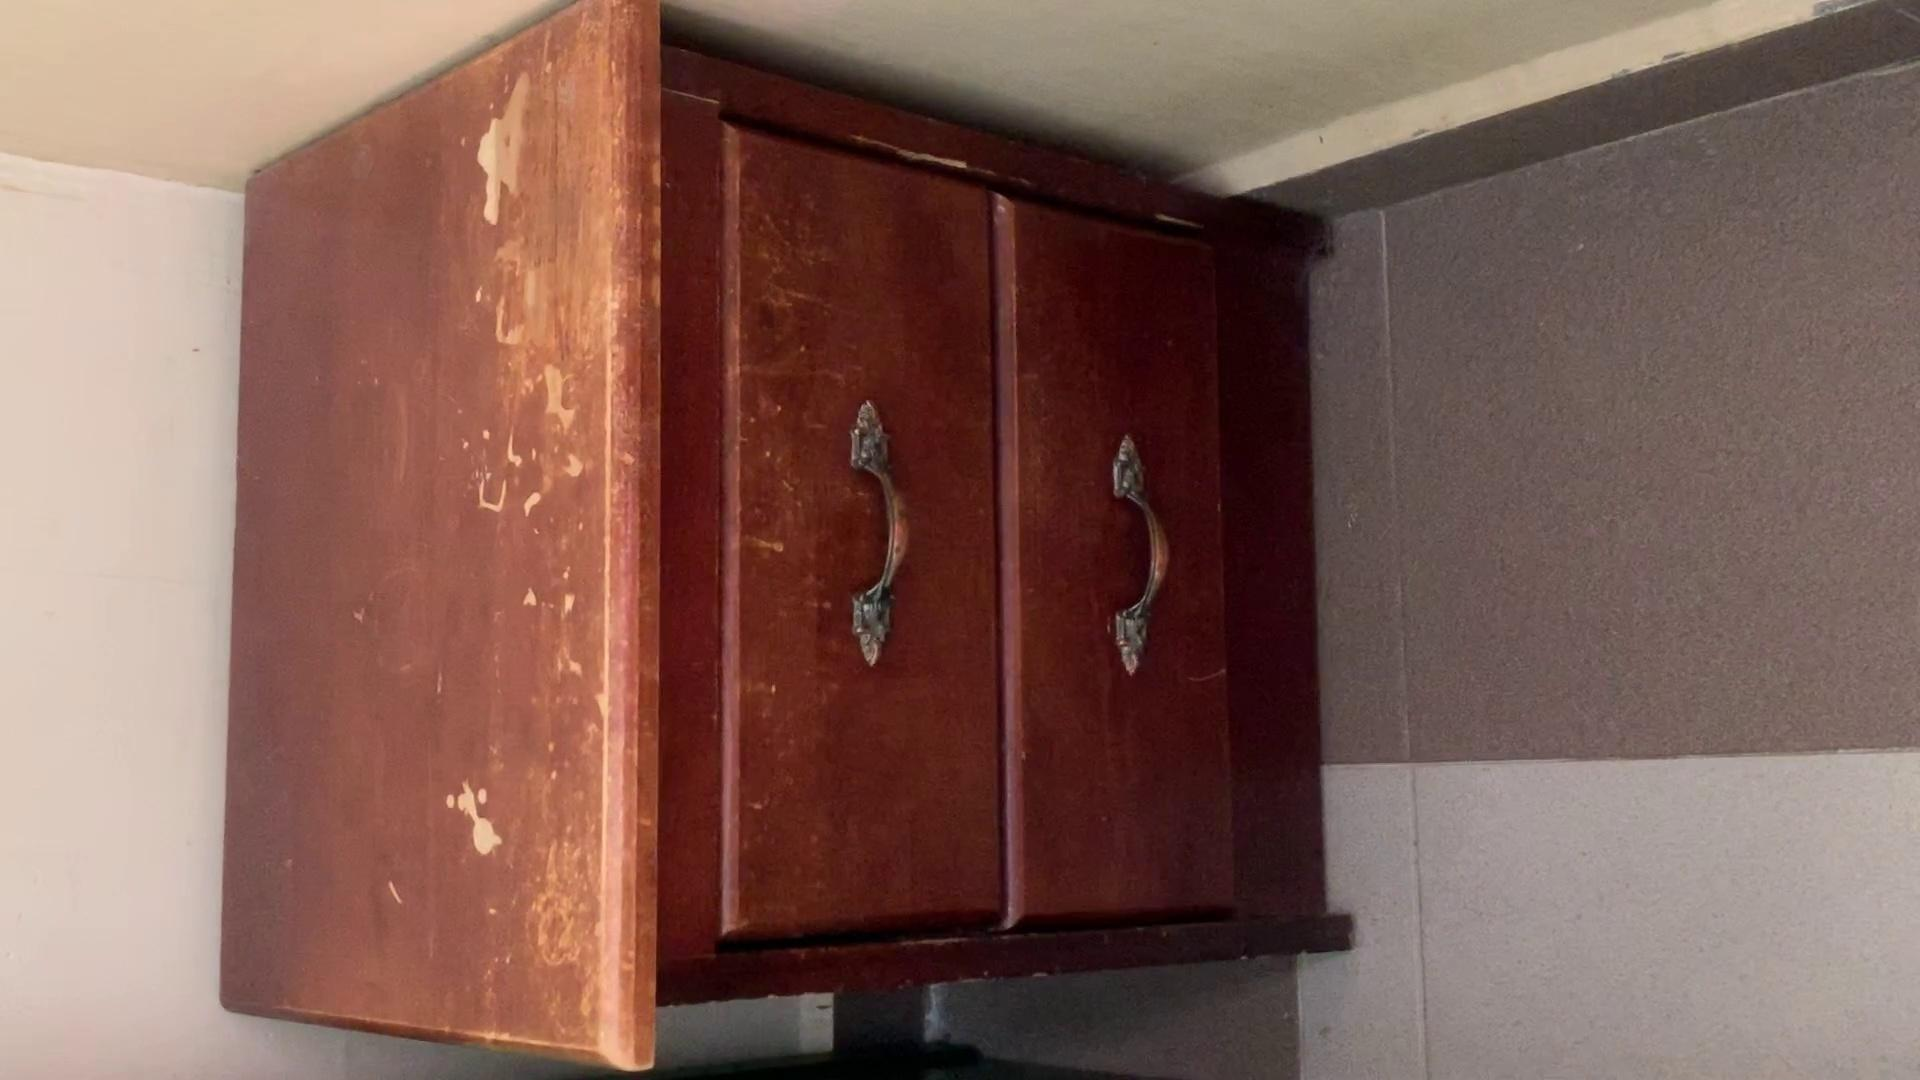cabinet_door: (711, 152, 985, 961), (997, 210, 1225, 927)
handle: (837, 397, 918, 678), (1095, 427, 1176, 682)
